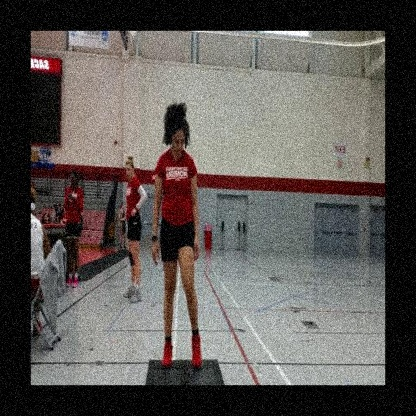lateral_flexion_right: (156, 104, 204, 369)
stance_width_normal: (155, 146, 204, 370)
